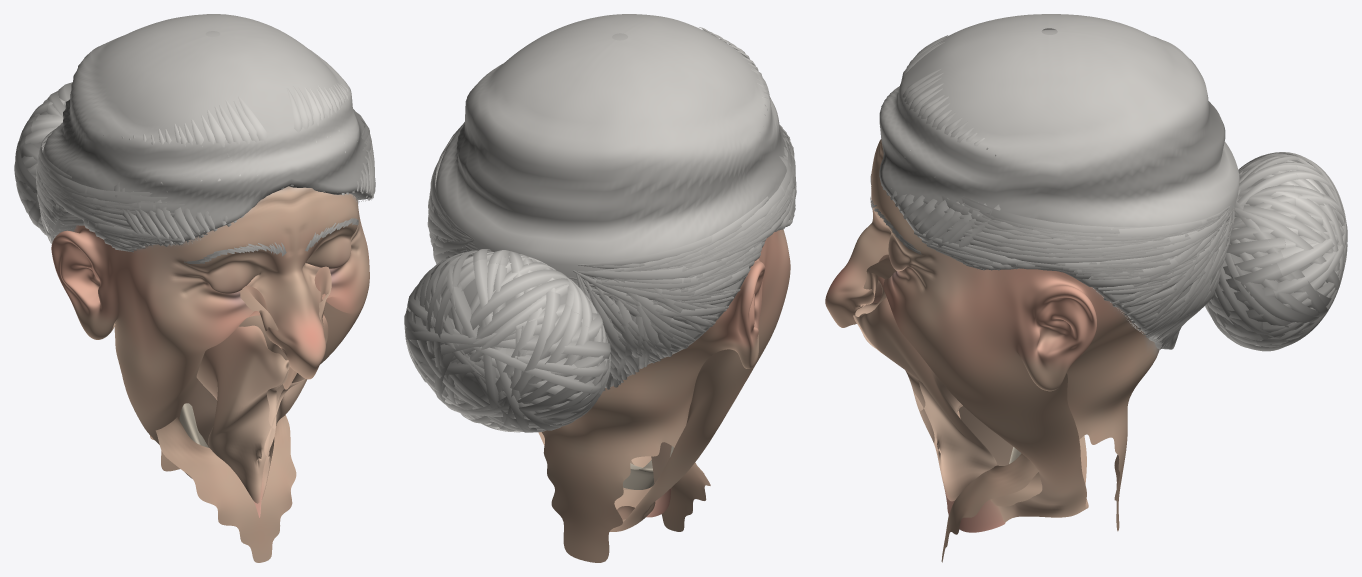
Rendered from ida_bl_v151.glb.
The picture shows the model from 3 angles, left to right: view 1: azimuth 30°, elevation 25°; view 2: azimuth 150°, elevation 25°; view 3: azimuth 270°, elevation 25°; orthographic projection. The views are drawn at different scales.
Visible parts, largest first — view 1: ida_head, ida_hair_shell, ida_hair_cards, ida_bun, ida_brows; view 2: ida_hair_shell, ida_head, ida_bun, ida_hair_cards; view 3: ida_hair_shell, ida_head, ida_hair_cards, ida_bun.
Boxes of the visible parts, x1=… form: ida_head: x1=51, y1=31, x2=369, y2=562; ida_hair_shell: x1=43, y1=14, x2=371, y2=249; ida_hair_cards: x1=36, y1=83, x2=375, y2=252; ida_bun: x1=14, y1=82, x2=72, y2=235; ida_brows: x1=184, y1=218, x2=358, y2=263; ida_hair_shell: x1=435, y1=14, x2=786, y2=387; ida_head: x1=538, y1=33, x2=790, y2=562; ida_bun: x1=404, y1=249, x2=610, y2=432; ida_hair_cards: x1=427, y1=27, x2=796, y2=391; ida_hair_shell: x1=879, y1=14, x2=1239, y2=349; ida_head: x1=825, y1=30, x2=1159, y2=562; ida_hair_cards: x1=881, y1=35, x2=1234, y2=349; ida_bun: x1=1205, y1=152, x2=1347, y2=351.
Bounding box in the file's own units: 0.8879 × 1.45 × 1.29.
